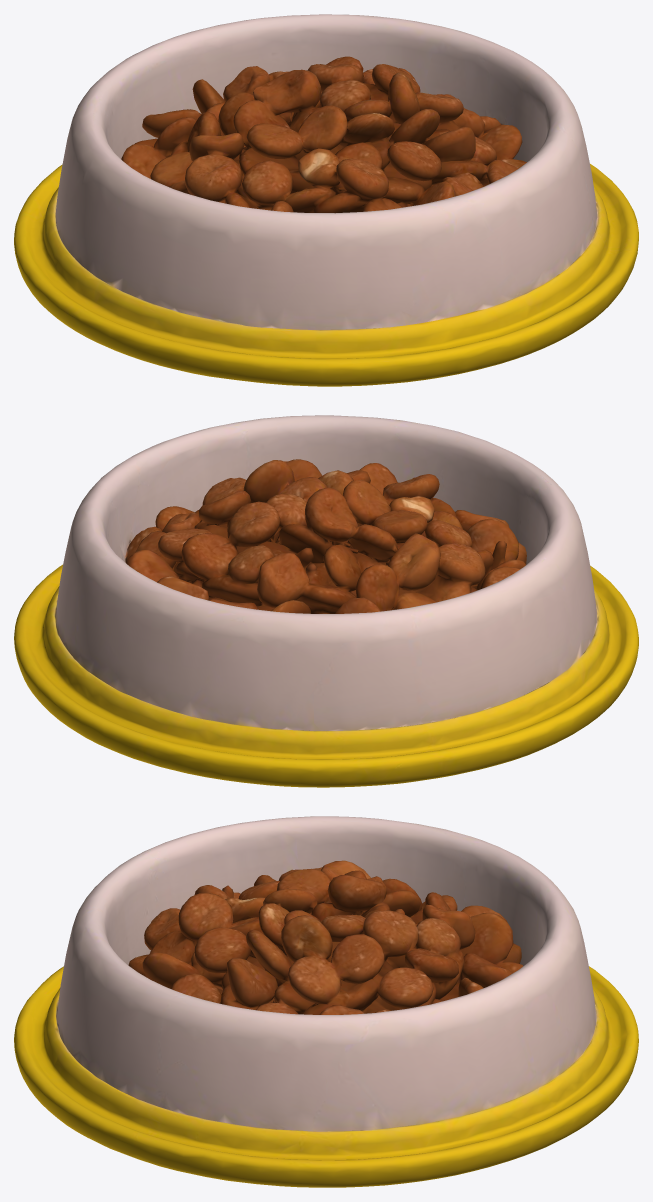
Rendered from bowl.glb.
The picture shows the model from 3 angles, top to bottom: view 1: azimuth 30°, elevation 25°; view 2: azimuth 150°, elevation 25°; view 3: azimuth 270°, elevation 25°; orthographic projection.
Parts seen in each view (by area): view 1: tripo_node_89448ca7-ae44-4828-bf3e-e6a13b53ca6e; view 2: tripo_node_89448ca7-ae44-4828-bf3e-e6a13b53ca6e; view 3: tripo_node_89448ca7-ae44-4828-bf3e-e6a13b53ca6e.
Part boxes in pixels (x1,y1,x2,y2): tripo_node_89448ca7-ae44-4828-bf3e-e6a13b53ca6e: (14,14,638,386); tripo_node_89448ca7-ae44-4828-bf3e-e6a13b53ca6e: (14,415,638,787); tripo_node_89448ca7-ae44-4828-bf3e-e6a13b53ca6e: (14,816,638,1187).
Bounding box in the file's own units: 0.2598 × 0.0838 × 0.26.
Materials: 1 (1 with a texture image).
